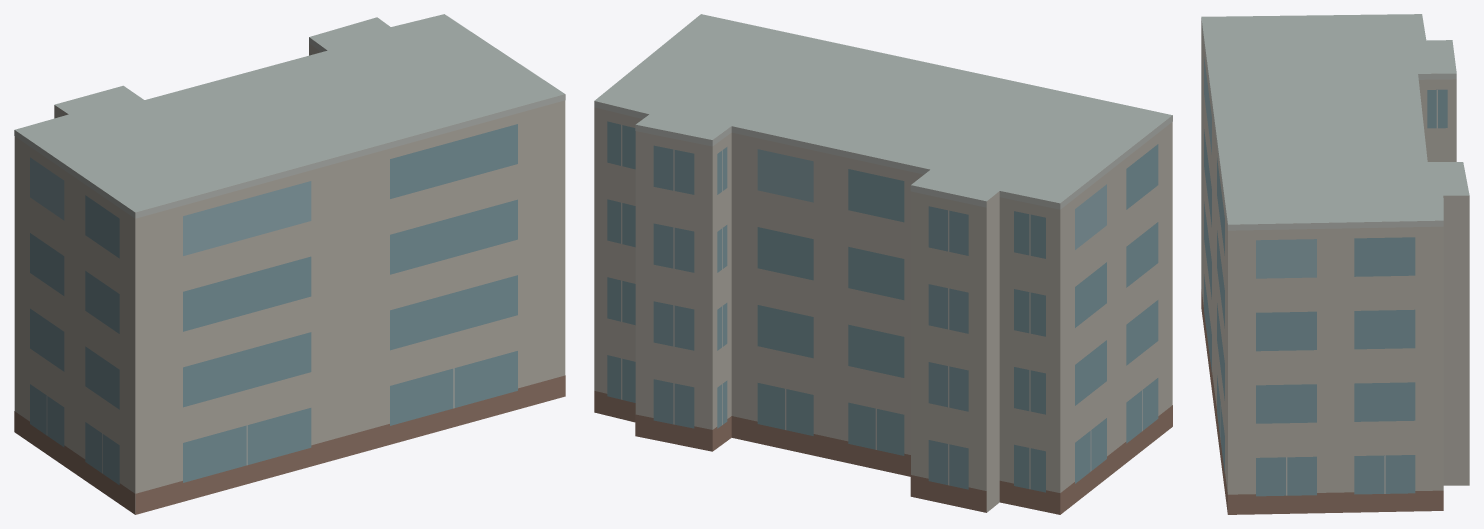
The model's file is survey-upis-32763168.glb.
3 views of the same model, side by side, from view 1: azimuth 30°, elevation 25°; view 2: azimuth 150°, elevation 25°; view 3: azimuth 270°, elevation 25° (orthographic). The views are drawn at different scales.
Parts seen in each view (by area): view 1: survey-upis-32763168.tmp; view 2: survey-upis-32763168.tmp; view 3: survey-upis-32763168.tmp.
Part boxes in pixels (x1,y1,x2,y2): survey-upis-32763168.tmp: (14,14,565,514); survey-upis-32763168.tmp: (594,14,1172,514); survey-upis-32763168.tmp: (1201,14,1469,514).
Bounding box in the file's own units: 18.54 × 11.9 × 9.98.
